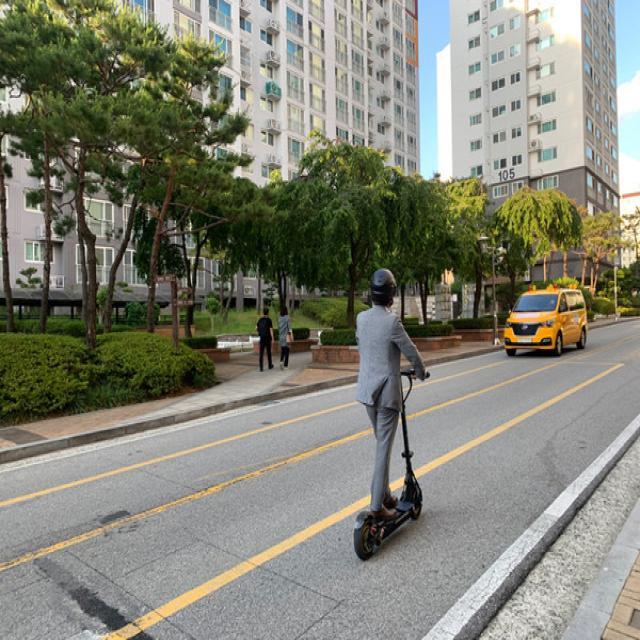helmet: (344, 260, 429, 566)
